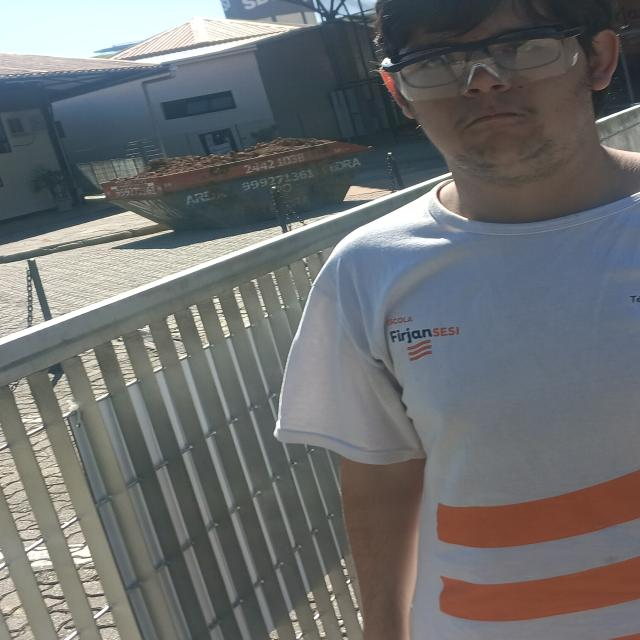oculos-epi: (379, 27, 594, 100)
